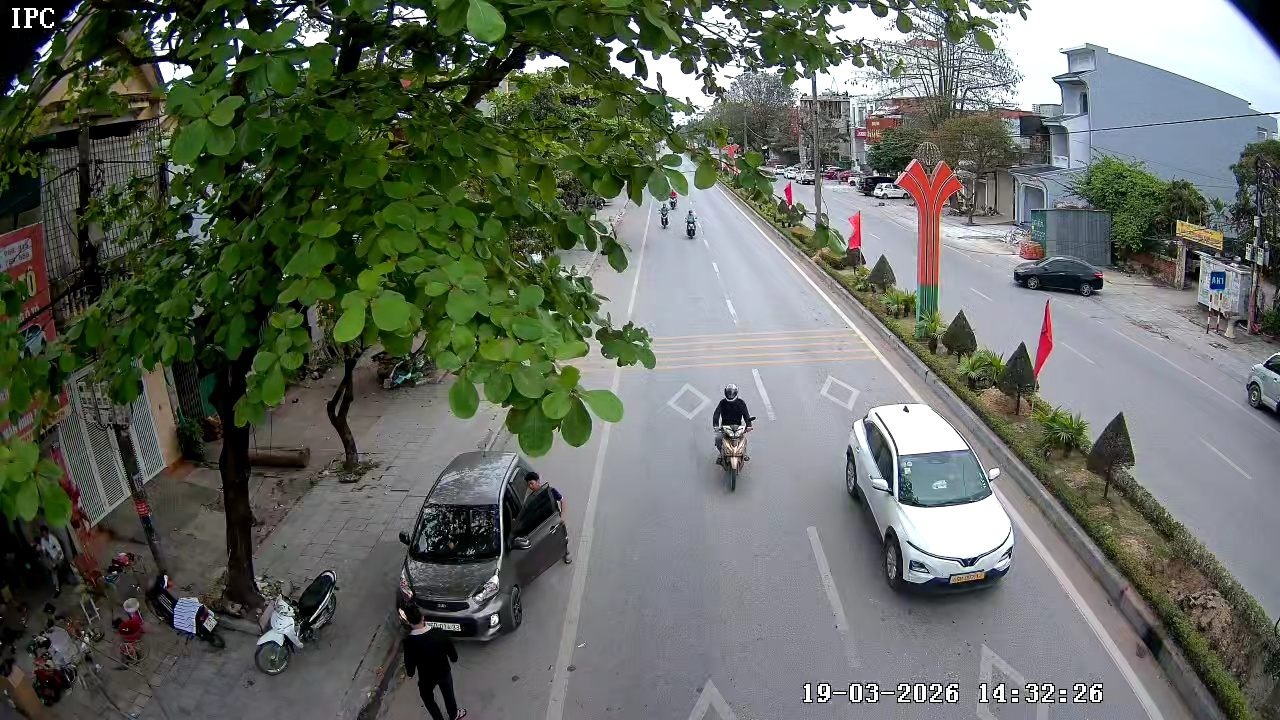car: (395, 449, 573, 640), (843, 400, 1017, 591), (1013, 253, 1107, 298), (1244, 349, 1279, 452)
motorbike: (369, 595, 469, 719), (707, 382, 758, 493), (103, 551, 149, 670), (682, 207, 700, 241), (657, 198, 673, 232)
